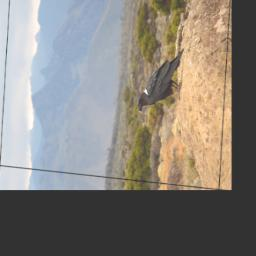Crow: (136, 42, 187, 119)
